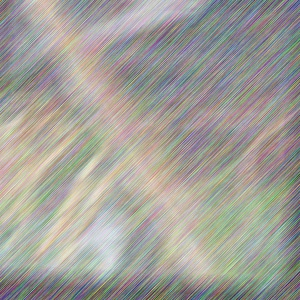Leaf_Blast: (158, 168, 227, 282)
